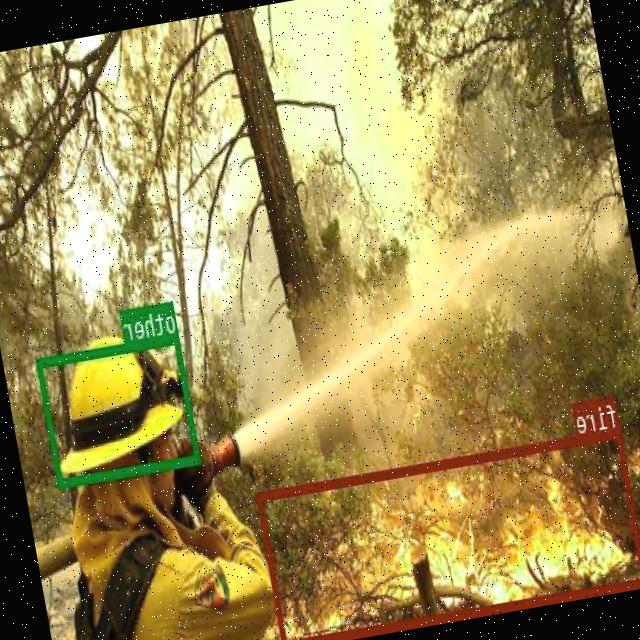fire: (256, 427, 640, 640)
